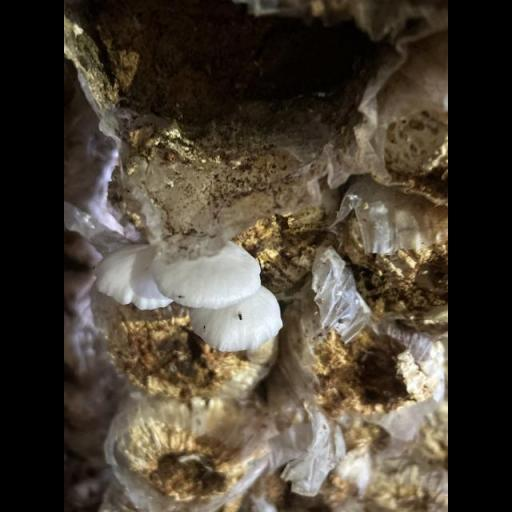White Oyster Mushroom: (96, 238, 284, 352)
